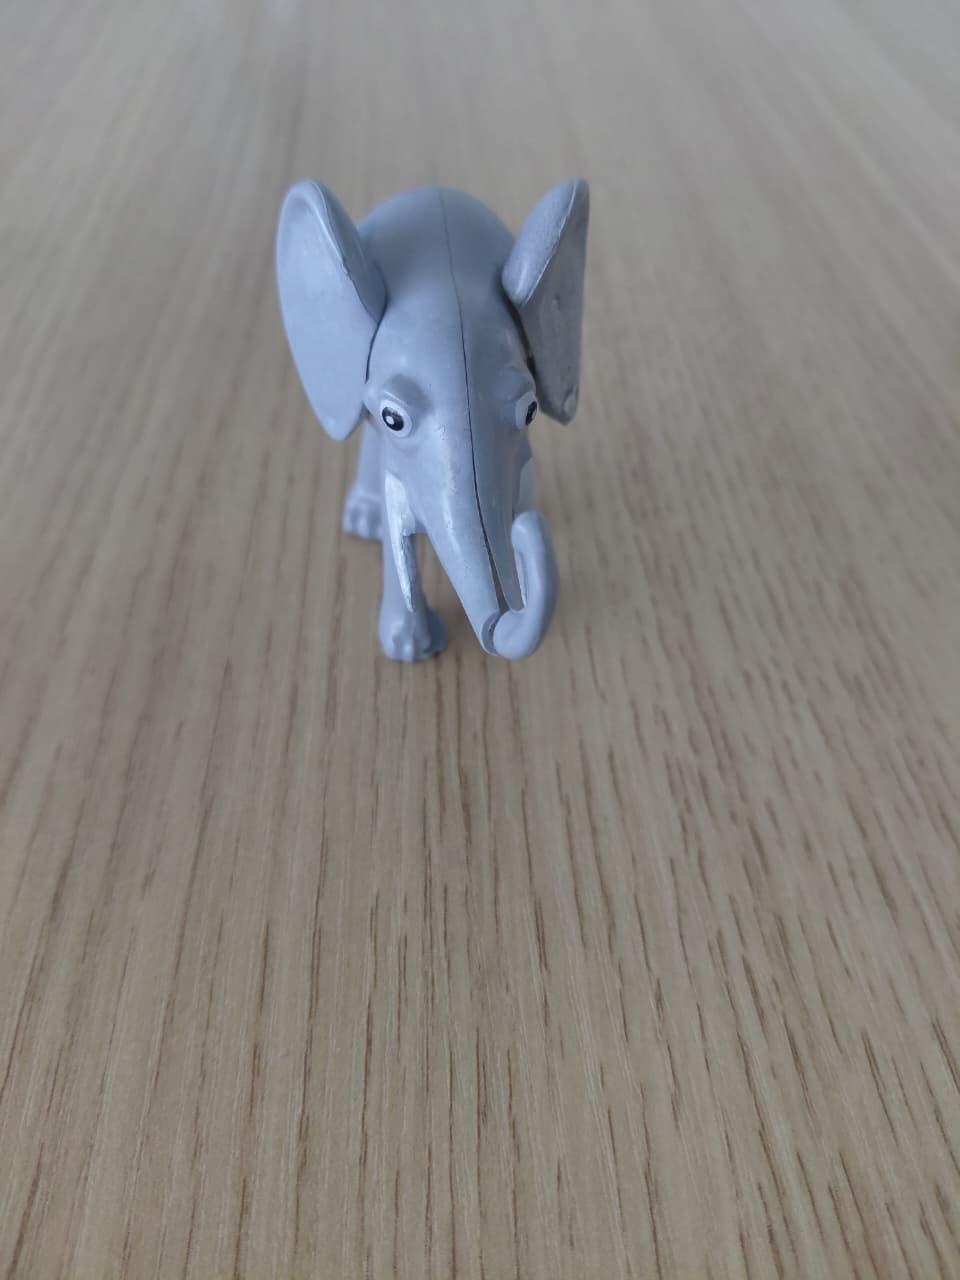elephant: (242, 113, 702, 785)
